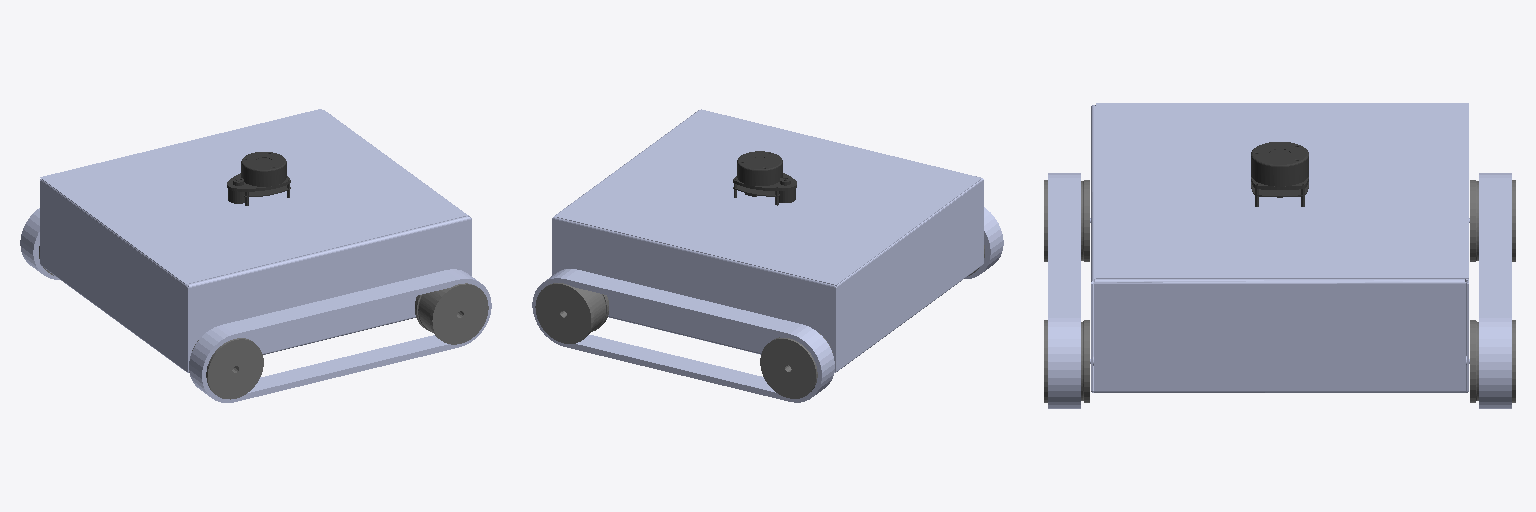
The robot description file, URDF, robot "mobile_robot":
<?xml version="1.0" encoding="utf-8"?>
<!-- This URDF was automatically created by SolidWorks to URDF Exporter! Originally created by [author] ([email redacted]) 
     Commit Version: 1.6.0-4-g7f85cfe  Build Version: 1.6.7995.38578
     For more information, please see http://wiki.ros.org/sw_urdf_exporter -->
<robot
  name="mobile_robot">
  <link
    name="base_link">
    <inertial>
      <origin
        xyz="-0.00032356 0.094892 -0.00032522"
        rpy="0 0 0" />
      <mass
        value="2.5039" />
      <inertia
        ixx="0.062891"
        ixy="2.4417E-08"
        ixz="-8.356E-08"
        iyy="0.12579"
        iyz="-1.4072E-07"
        izz="0.073842" />
    </inertial>
    <visual>
      <origin
        xyz="0 0 0"
        rpy="0 0 0" />
      <geometry>
        <mesh
          filename="package://mobile_robot/meshes/base_link.STL" />
      </geometry>
      <material
        name="">
        <color
          rgba="0.79216 0.81961 0.93333 1" />
      </material>
    </visual>
    <collision>
      <origin
        xyz="0 0 0"
        rpy="0 0 0" />
      <geometry>
        <mesh
          filename="package://mobile_robot/meshes/base_link.STL" />
      </geometry>
    </collision>
  </link>
  <link
    name="Backward_Right_Wheel_Link">
    <inertial>
      <origin
        xyz="-0.027498 0 0"
        rpy="0 0 0" />
      <mass
        value="0.39898" />
      <inertia
        ixx="0.00047579"
        ixy="-1.641E-20"
        ixz="-9.1957E-21"
        iyy="0.00034172"
        iyz="1.3553E-20"
        izz="0.00034172" />
    </inertial>
    <visual>
      <origin
        xyz="0 0 0"
        rpy="0 0 0" />
      <geometry>
        <mesh
          filename="package://mobile_robot/meshes/Backward_Right_Wheel_Link.STL" />
      </geometry>
      <material
        name="">
        <color
          rgba="0.50196 0.50196 0.50196 1" />
      </material>
    </visual>
    <collision>
      <origin
        xyz="0 0 0"
        rpy="0 0 0" />
      <geometry>
        <mesh
          filename="package://mobile_robot/meshes/Backward_Right_Wheel_Link.STL" />
      </geometry>
    </collision>
  </link>
  <joint
    name="Backward_Right_Wheel_Joint"
    type="continuous">
    <origin
      xyz="0.2 0.229 0.0578"
      rpy="2.331 0 -1.5708" />
    <parent
      link="base_link" />
    <child
      link="Backward_Right_Wheel_Link" />
    <axis
      xyz="1 0 0" />
  </joint>
  <link
    name="Forward_Right_Wheel_Link">
    <inertial>
      <origin
        xyz="-0.027498 1.1102E-16 4.1633E-17"
        rpy="0 0 0" />
      <mass
        value="0.39898" />
      <inertia
        ixx="0.00047579"
        ixy="-1.7834E-20"
        ixz="1.1974E-20"
        iyy="0.00034172"
        iyz="0"
        izz="0.00034172" />
    </inertial>
    <visual>
      <origin
        xyz="0 0 0"
        rpy="0 0 0" />
      <geometry>
        <mesh
          filename="package://mobile_robot/meshes/Forward_Right_Wheel_Link.STL" />
      </geometry>
      <material
        name="">
        <color
          rgba="0.50196 0.50196 0.50196 1" />
      </material>
    </visual>
    <collision>
      <origin
        xyz="0 0 0"
        rpy="0 0 0" />
      <geometry>
        <mesh
          filename="package://mobile_robot/meshes/Forward_Right_Wheel_Link.STL" />
      </geometry>
    </collision>
  </link>
  <joint
    name="Forward_Right_Wheel_Joint"
    type="continuous">
    <origin
      xyz="-0.2 0.229 0.0578"
      rpy="2.6288 0 -1.5708" />
    <parent
      link="base_link" />
    <child
      link="Forward_Right_Wheel_Link" />
    <axis
      xyz="1 0 0" />
  </joint>
  <link
    name="Right_Belt_Link">
    <inertial>
      <origin
        xyz="0.074192 0.02 6.9389E-18"
        rpy="0 0 0" />
      <mass
        value="0.4527" />
      <inertia
        ixx="0.0011418"
        ixy="-3.0496E-19"
        ixz="-6.8044E-19"
        iyy="0.012632"
        iyz="1.1201E-19"
        izz="0.011611" />
    </inertial>
    <visual>
      <origin
        xyz="0 0 0"
        rpy="0 0 0" />
      <geometry>
        <mesh
          filename="package://mobile_robot/meshes/Right_Belt_Link.STL" />
      </geometry>
      <material
        name="">
        <color
          rgba="0.79216 0.81961 0.93333 1" />
      </material>
    </visual>
    <collision>
      <origin
        xyz="0 0 0"
        rpy="0 0 0" />
      <geometry>
        <mesh
          filename="package://mobile_robot/meshes/Right_Belt_Link.STL" />
      </geometry>
    </collision>
  </link>
  <joint
    name="Right_Belt_Joint"
    type="fixed">
    <origin
      xyz="-0.010811 -0.10963 -0.061719"
      rpy="3.1416 0.51276 -1.5708" />
    <parent
      link="Forward_Right_Wheel_Link" />
    <child
      link="Right_Belt_Link" />
    <axis
      xyz="0 0 0" />
  </joint>
  <link
    name="Backward_Left_Wheel_Link">
    <inertial>
      <origin
        xyz="-0.027498 4.1633E-17 0"
        rpy="0 0 0" />
      <mass
        value="0.39898" />
      <inertia
        ixx="0.00047579"
        ixy="-2.6724E-20"
        ixz="-7.9826E-21"
        iyy="0.00034172"
        iyz="8.1315E-20"
        izz="0.00034172" />
    </inertial>
    <visual>
      <origin
        xyz="0 0 0"
        rpy="0 0 0" />
      <geometry>
        <mesh
          filename="package://mobile_Robot/meshes/Backward_Left_Wheel_Link.STL" />
      </geometry>
      <material
        name="">
        <color
          rgba="0.50196 0.50196 0.50196 1" />
      </material>
    </visual>
    <collision>
      <origin
        xyz="0 0 0"
        rpy="0 0 0" />
      <geometry>
        <mesh
          filename="package://mobile_robot/meshes/Backward_Left_Wheel_Link.STL" />
      </geometry>
    </collision>
  </link>
  <joint
    name="Backward_Left_Wheel_Joint"
    type="continuous">
    <origin
      xyz="0.2 -0.229 0.0578"
      rpy="-2.331 0 1.5708" />
    <parent
      link="base_link" />
    <child
      link="Backward_Left_Wheel_Link" />
    <axis
      xyz="1 0 0" />
  </joint>
  <link
    name="Forward_Left_Wheel_Link">
    <inertial>
      <origin
        xyz="-0.027498 -2.7756E-17 1.3878E-17"
        rpy="0 0 0" />
      <mass
        value="0.39898" />
      <inertia
        ixx="0.00047579"
        ixy="3.8027E-22"
        ixz="1.5409E-20"
        iyy="0.00034172"
        iyz="0"
        izz="0.00034172" />
    </inertial>
    <visual>
      <origin
        xyz="0 0 0"
        rpy="0 0 0" />
      <geometry>
        <mesh
          filename="package://mobile_robot/meshes/Forward_Left_Wheel_Link.STL" />
      </geometry>
      <material
        name="">
        <color
          rgba="0.50196 0.50196 0.50196 1" />
      </material>
    </visual>
    <collision>
      <origin
        xyz="0 0 0"
        rpy="0 0 0" />
      <geometry>
        <mesh
          filename="package://mobile_robot/meshes/Forward_Left_Wheel_Link.STL" />
      </geometry>
    </collision>
  </link>
  <joint
    name="Forward_Left_Wheel_Joint"
    type="continuous">
    <origin
      xyz="-0.2 -0.229 0.0578"
      rpy="-2.6288 0 1.5708" />
    <parent
      link="base_link" />
    <child
      link="Forward_Left_Wheel_Link" />
    <axis
      xyz="1 0 0" />
  </joint>
  <link
    name="Left_Belt_Link">
    <inertial>
      <origin
        xyz="0.074192 0.02 2.7756E-17"
        rpy="0 0 0" />
      <mass
        value="0.4527" />
      <inertia
        ixx="0.0011418"
        ixy="-6.1509E-19"
        ixz="-6.1719E-19"
        iyy="0.012632"
        iyz="-2.4518E-19"
        izz="0.011611" />
    </inertial>
    <visual>
      <origin
        xyz="0 0 0"
        rpy="0 0 0" />
      <geometry>
        <mesh
          filename="package://mobile_robot/meshes/Left_Belt_Link.STL" />
      </geometry>
      <material
        name="">
        <color
          rgba="0.79216 0.81961 0.93333 1" />
      </material>
    </visual>
    <collision>
      <origin
        xyz="0 0 0"
        rpy="0 0 0" />
      <geometry>
        <mesh
          filename="package://mobile_robot/meshes/Left_Belt_Link.STL" />
      </geometry>
    </collision>
  </link>
  <joint
    name="Left_Belt_Joint"
    type="fixed">
    <origin
      xyz="-0.010811 0.10963 -0.061719"
      rpy="0 0.51276 1.5708" />
    <parent
      link="Forward_Left_Wheel_Link" />
    <child
      link="Left_Belt_Link" />
    <axis
      xyz="0 0 0" />
  </joint>
  <link
    name="Lidar">
    <inertial>
      <origin
        xyz="-0.0074817 0.010662 9.1777E-05"
        rpy="0 0 0" />
      <mass
        value="1.3304" />
      <inertia
        ixx="0.00061474"
        ixy="0.00015819"
        ixz="8.0027E-07"
        iyy="0.0010981"
        iyz="3.096E-06"
        izz="0.0009605" />
    </inertial>
    <visual>
      <origin
        xyz="0 0 0"
        rpy="0 0 0" />
      <geometry>
        <mesh
          filename="package://mobile_robot/meshes/Lidar.STL" />
      </geometry>
      <material
        name="">
        <color
          rgba="0.29804 0.29804 0.29804 1" />
      </material>
    </visual>
    <collision>
      <origin
        xyz="0 0 0"
        rpy="0 0 0" />
      <geometry>
        <mesh
          filename="package://mobile_robot/meshes/Lidar.STL" />
      </geometry>
    </collision>
  </link>
  <joint
    name="Scan"
    type="fixed">
    <origin
      xyz="0 0 0.21466"
      rpy="1.5708 0 -3.1416" />
    <parent
      link="base_link" />
    <child
      link="Lidar" />
    <axis
      xyz="0 0 0" />
  </joint>
</robot>

--- Render facts (derived) ---
The picture shows the robot from 3 angles, left to right: view 1: azimuth 30°, elevation 25°; view 2: azimuth 150°, elevation 25°; view 3: azimuth 270°, elevation 25°; orthographic projection.
Robot: mobile_robot — 8 links, 7 joints (4 continuous, 3 fixed); root link base_link; default pose: all joints at 0.
Links seen in each view (by area): view 1: base_link, Left_Belt_Link, Backward_Left_Wheel_Link, Forward_Left_Wheel_Link, Lidar, Right_Belt_Link; view 2: base_link, Right_Belt_Link, Backward_Right_Wheel_Link, Forward_Right_Wheel_Link, Lidar, Left_Belt_Link; view 3: base_link, Right_Belt_Link, Left_Belt_Link, Lidar, Backward_Right_Wheel_Link, Backward_Left_Wheel_Link, Forward_Right_Wheel_Link, Forward_Left_Wheel_Link.
Boxes of the visible links, x1,y1,x2,y2 form: base_link: (40, 109, 471, 372); Left_Belt_Link: (189, 269, 491, 402); Backward_Left_Wheel_Link: (415, 283, 488, 344); Forward_Left_Wheel_Link: (192, 338, 263, 399); Lidar: (227, 152, 290, 205); Right_Belt_Link: (20, 208, 59, 279); base_link: (552, 109, 983, 372); Right_Belt_Link: (532, 269, 834, 402); Backward_Right_Wheel_Link: (535, 283, 608, 343); Forward_Right_Wheel_Link: (760, 333, 832, 398); Lidar: (733, 151, 796, 205); Left_Belt_Link: (965, 207, 1003, 278); base_link: (1090, 103, 1469, 392); Right_Belt_Link: (1479, 173, 1511, 408); Left_Belt_Link: (1048, 173, 1080, 408); Lidar: (1251, 142, 1308, 206); Backward_Right_Wheel_Link: (1470, 320, 1515, 402); Backward_Left_Wheel_Link: (1044, 320, 1089, 402); Forward_Right_Wheel_Link: (1470, 180, 1515, 261); Forward_Left_Wheel_Link: (1044, 180, 1089, 261).
Size in the robot's own frame: 0.5152 by 0.568 by 0.2478 metres.
8 mesh visuals loaded from 8 distinct referenced files (8 binary STL).